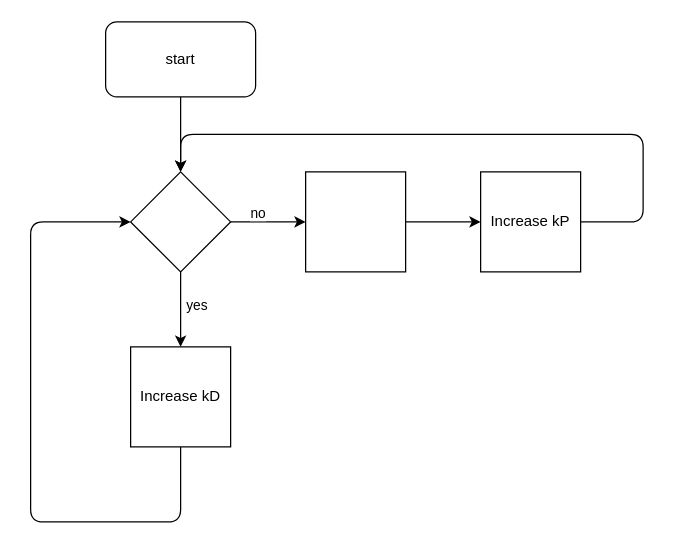
Some shapes in this 675 by 554 pixel diagram are drawn without their labels. Here are the shapes that lost their labels. From the top down, the box of each, then its label:
(129, 171, 231, 272): Does it oscillate
(304, 171, 406, 272): Record kP and kD
